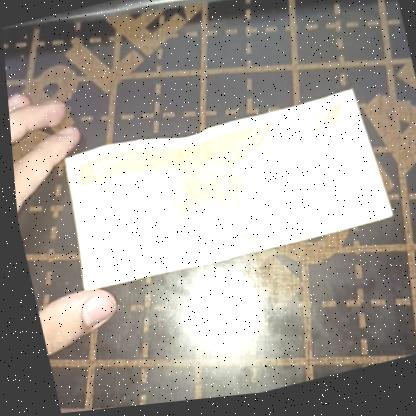twenty-back-vef: (47, 89, 393, 296)
